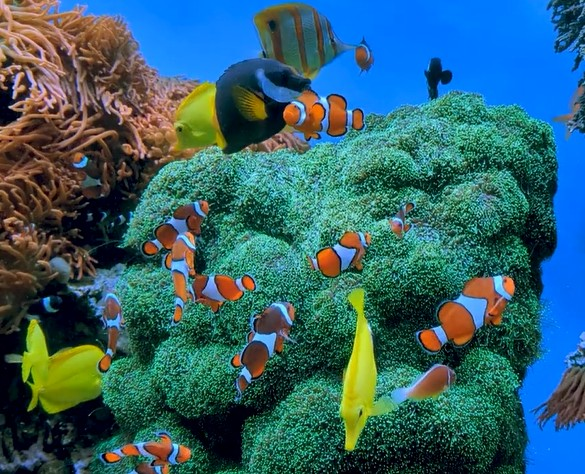fishes: (340, 287, 378, 453)
